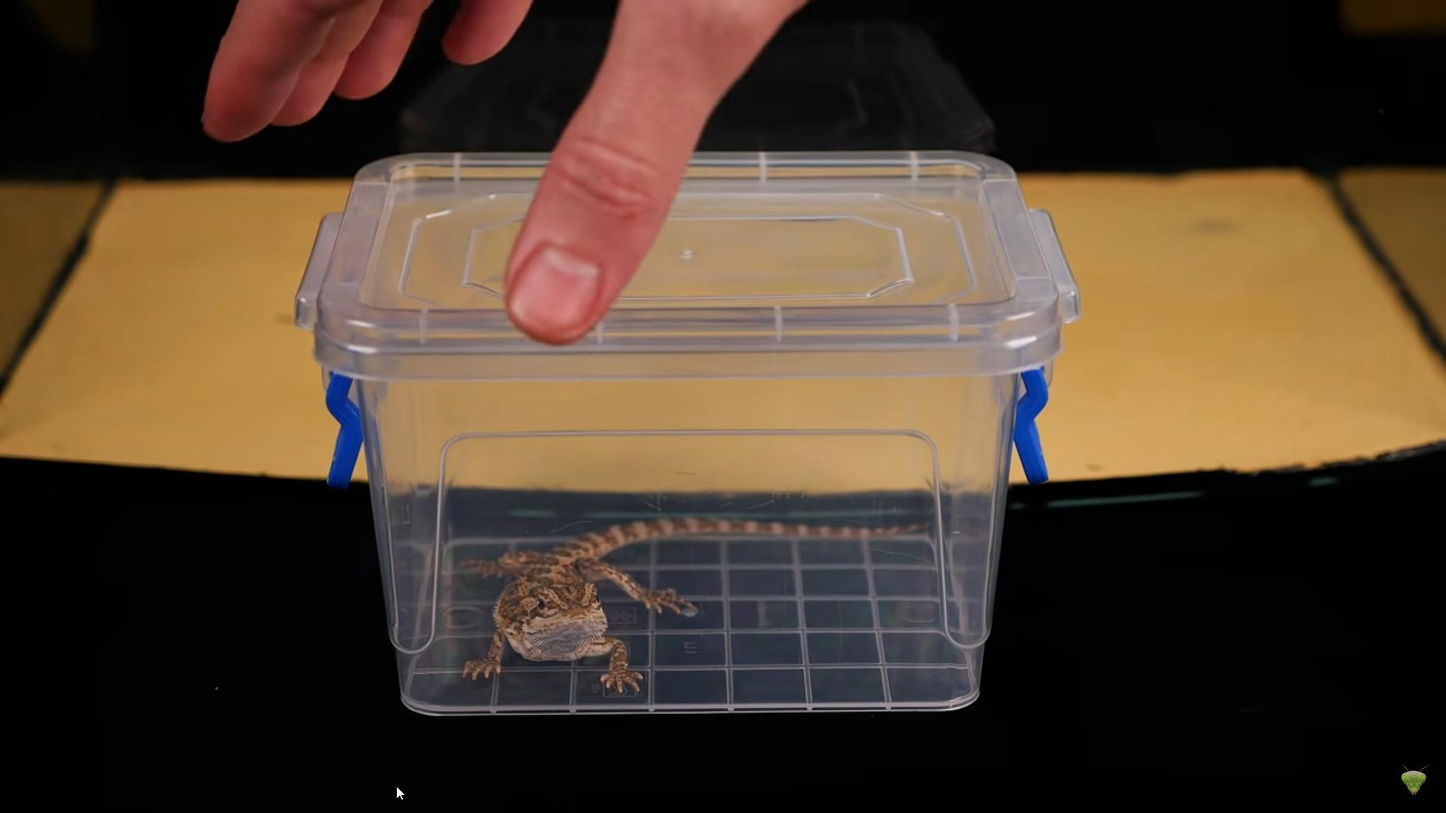lizard: (455, 513, 928, 695)
